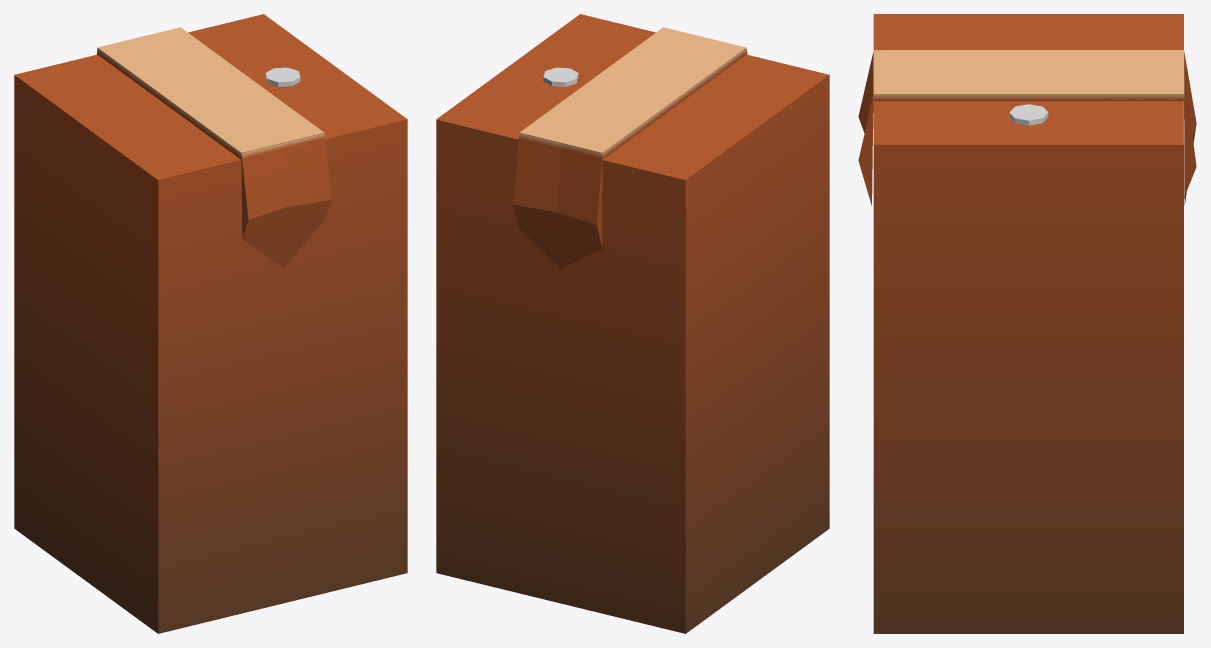
File: Orange Juice.glb
The picture shows the model from 3 angles, left to right: view 1: azimuth 30°, elevation 25°; view 2: azimuth 150°, elevation 25°; view 3: azimuth 270°, elevation 25°; orthographic projection. The views are drawn at different scales.
Visible parts, largest first — view 1: Cube, Cylinder; view 2: Cube, Cylinder; view 3: Cube, Cylinder.
Part boxes in pixels (box(x1,y1,x2,y2)): Cube: box(14, 14, 407, 633); Cylinder: box(265, 67, 300, 86); Cube: box(436, 14, 829, 633); Cylinder: box(543, 67, 578, 86); Cube: box(858, 14, 1196, 633); Cylinder: box(1009, 104, 1048, 125).
Bounding box in the file's own units: 1.35 × 2.38 × 1.47.
Materials: 2 (1 with a texture image).
